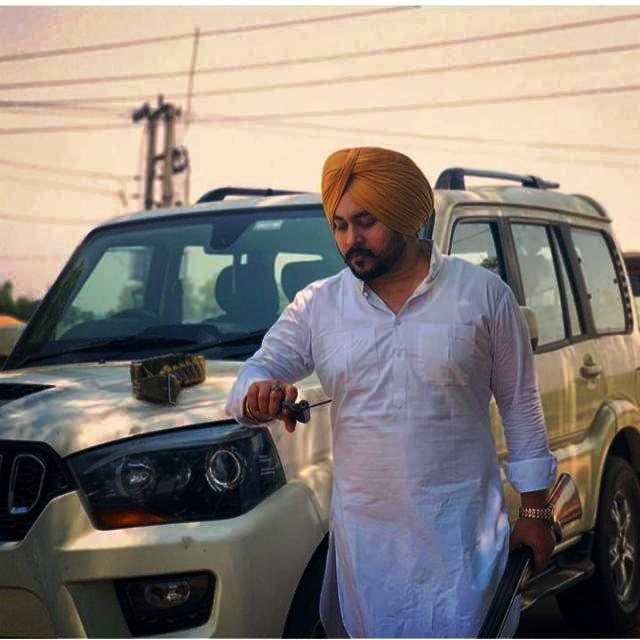Knife: (261, 383, 344, 432)
